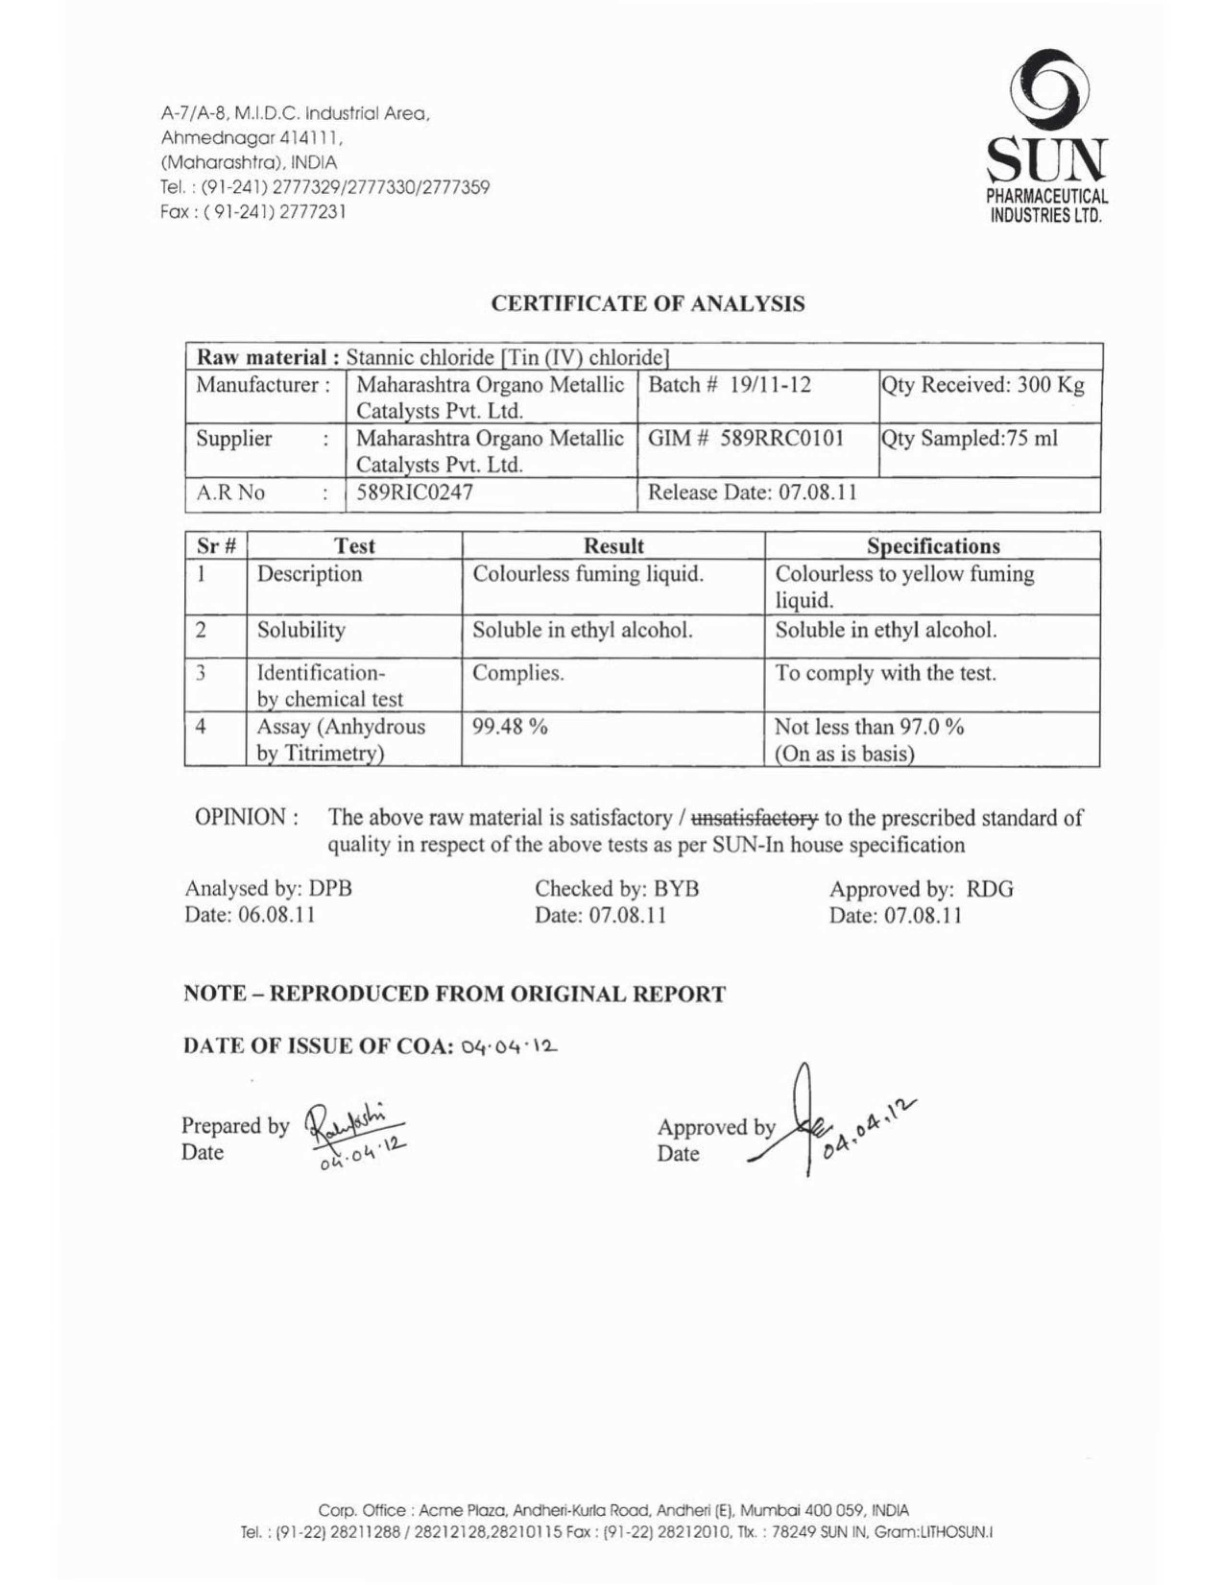full_lined: (183, 530, 1102, 769)
merged_cells: (184, 341, 1104, 514)
